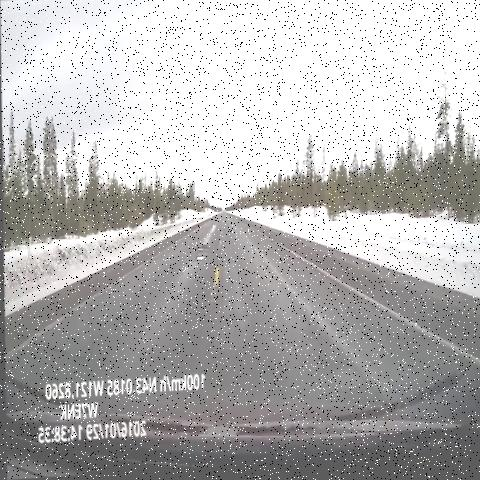pothole: (190, 236, 215, 273)
